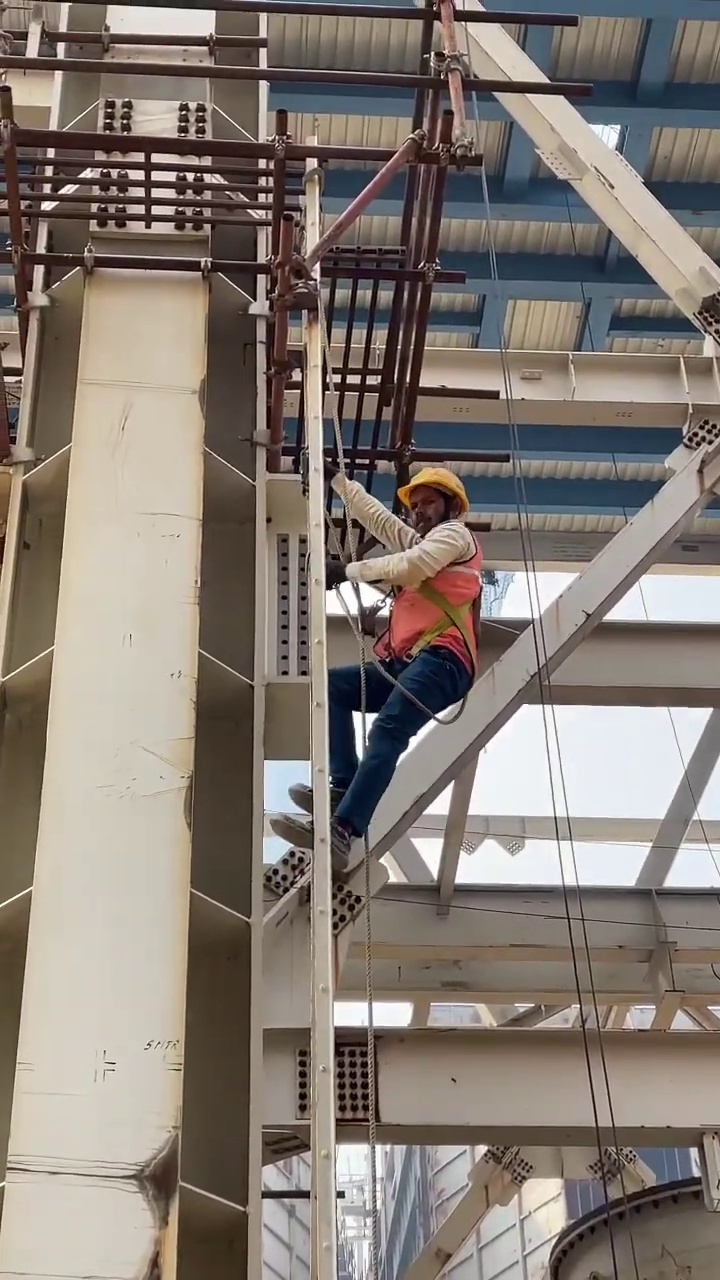Helmet: (396, 463, 470, 507)
Person: (260, 464, 483, 873)
Safety_Harness: (358, 525, 481, 721)
Safety_shoes: (268, 811, 350, 871), (287, 779, 341, 808)
